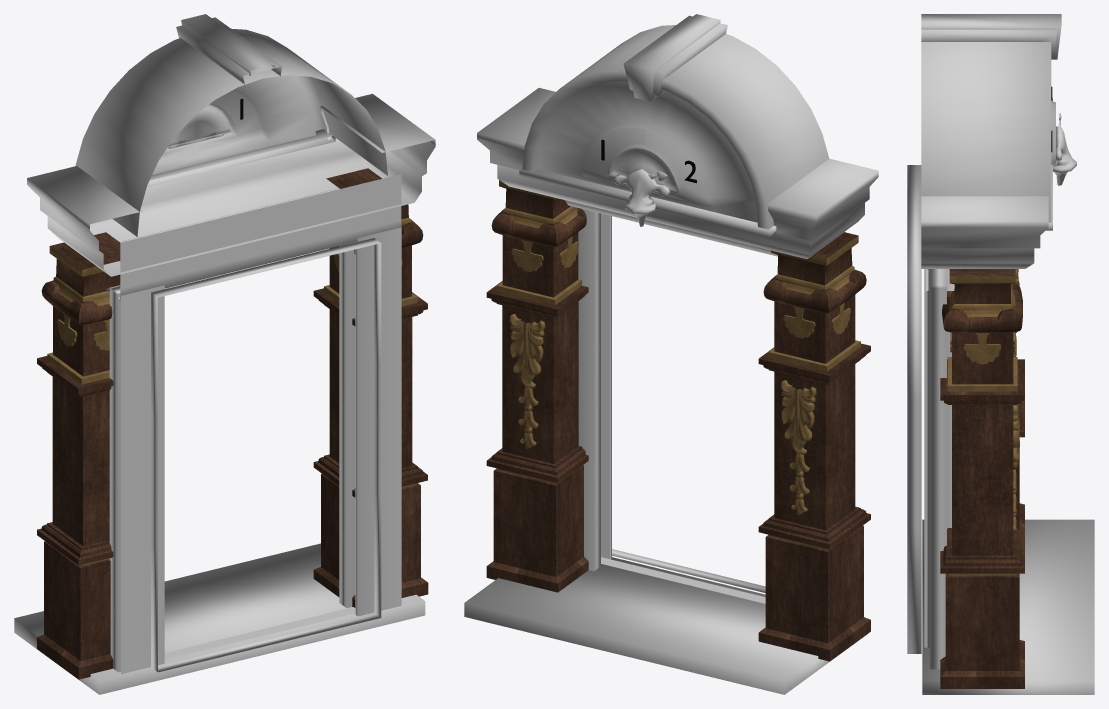
Rendered from Marco2.fbx.
The picture shows the model from 3 angles, left to right: view 1: azimuth 30°, elevation 25°; view 2: azimuth 150°, elevation 25°; view 3: azimuth 270°, elevation 25°; orthographic projection. The views are drawn at different scales.
Parts seen in each view (by area): view 1: text.001; view 2: text.001; view 3: text.001.
Part boxes in pixels (x1,y1,x2,y2): text.001: (14, 14, 435, 694); text.001: (464, 14, 878, 694); text.001: (907, 14, 1094, 694).
Size of the model in its own units: 207 by 332 by 94.92.
